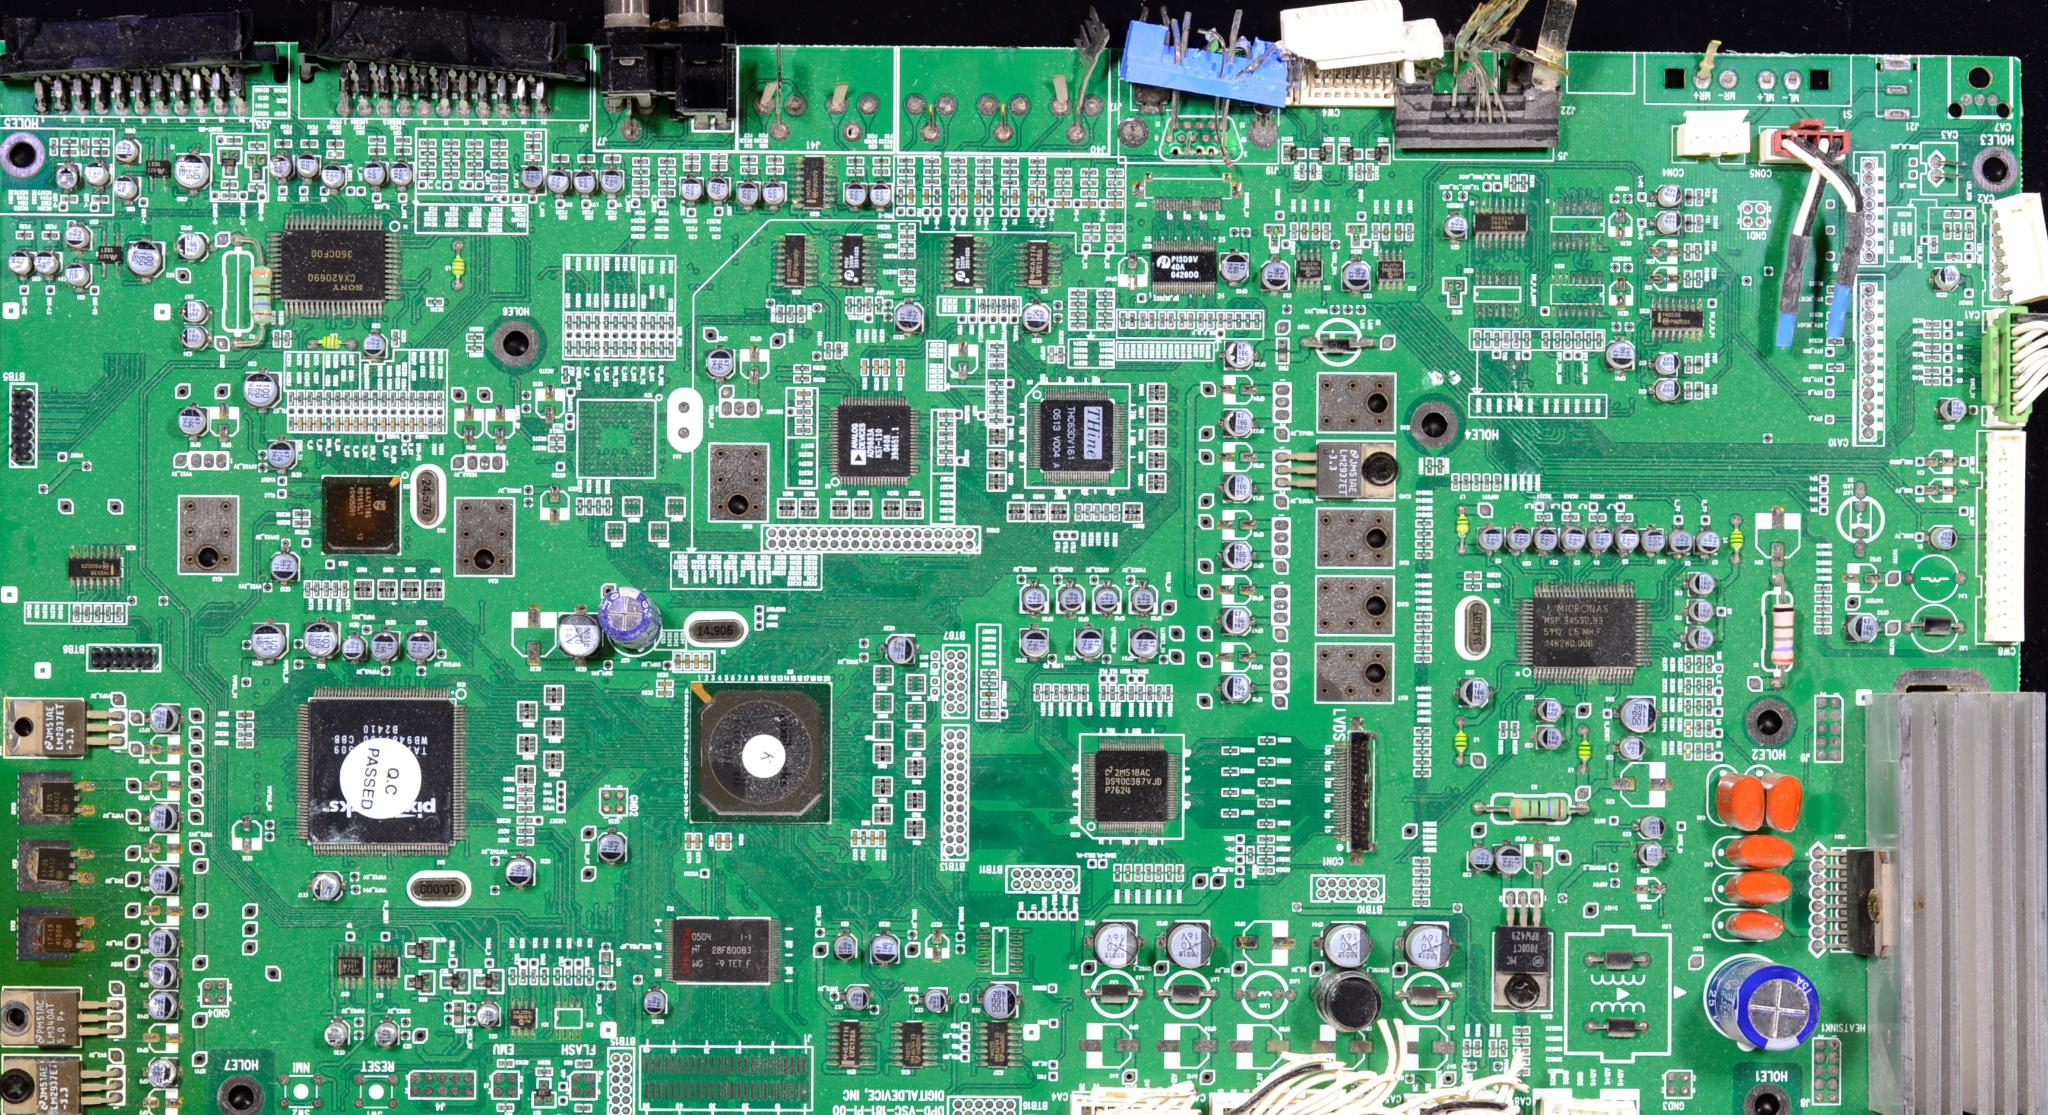Capacitor Jumper: (1076, 923, 1152, 969), (1164, 915, 1230, 967), (549, 611, 619, 658), (155, 401, 229, 442), (1002, 628, 1065, 669), (1401, 924, 1461, 968), (1224, 327, 1268, 379), (259, 428, 312, 472), (296, 868, 354, 906), (137, 693, 194, 732), (891, 298, 938, 343), (141, 1048, 189, 1092), (242, 368, 291, 409), (1529, 715, 1585, 751), (1450, 671, 1503, 709), (306, 615, 345, 666), (581, 831, 636, 865), (244, 617, 290, 658), (1121, 625, 1163, 670), (410, 614, 447, 663), (917, 983, 961, 1023), (1841, 608, 1890, 643), (140, 957, 205, 983), (166, 313, 211, 350), (701, 341, 749, 375), (264, 551, 312, 585), (1124, 579, 1165, 619), (1325, 920, 1366, 960), (1012, 584, 1056, 619), (140, 919, 194, 947), (631, 978, 671, 1016), (137, 864, 189, 893), (1536, 691, 1572, 732), (981, 980, 1023, 1016), (169, 290, 220, 319), (1216, 472, 1261, 504), (1076, 618, 1113, 656), (173, 151, 209, 191), (1606, 338, 1642, 378), (866, 935, 907, 969), (143, 799, 194, 827), (1215, 669, 1256, 702), (1617, 702, 1661, 732), (1334, 260, 1373, 294), (505, 854, 538, 894), (1222, 409, 1263, 441), (172, 229, 210, 262), (372, 628, 405, 663), (1929, 264, 1966, 295), (1261, 257, 1292, 295), (1090, 581, 1123, 615), (1633, 814, 1675, 842), (1224, 537, 1260, 568), (1051, 584, 1090, 612), (1935, 397, 1975, 424), (1437, 210, 1470, 242), (1222, 610, 1259, 637), (1220, 251, 1252, 283), (1495, 843, 1525, 876), (832, 928, 869, 954), (839, 982, 877, 1007), (1934, 520, 1963, 553), (1665, 525, 1694, 555), (1635, 843, 1669, 868), (1654, 376, 1684, 404), (114, 170, 140, 202), (1684, 568, 1716, 595), (704, 174, 729, 207), (596, 168, 625, 195), (1695, 529, 1724, 556), (387, 159, 413, 189), (843, 179, 869, 209), (1654, 210, 1684, 236), (291, 152, 320, 179), (52, 162, 78, 191), (1587, 526, 1616, 552), (318, 163, 349, 188), (1687, 600, 1719, 623), (136, 1001, 177, 1019), (84, 159, 110, 187), (570, 168, 596, 195), (1614, 526, 1640, 553), (1640, 529, 1668, 555), (269, 152, 294, 181), (1653, 352, 1682, 376), (115, 137, 139, 168), (1686, 628, 1719, 648), (1467, 847, 1492, 873), (545, 169, 571, 194), (63, 225, 89, 250), (1535, 525, 1559, 551), (1506, 529, 1532, 553), (1477, 529, 1503, 553), (522, 163, 545, 191), (350, 630, 372, 659), (737, 179, 759, 207), (869, 183, 894, 207), (760, 181, 784, 207), (679, 176, 701, 203), (362, 162, 387, 185), (1658, 184, 1682, 206), (60, 192, 82, 203), (91, 192, 113, 203)
Connector: (1967, 427, 2048, 662), (1981, 184, 2048, 312)
IC: (1068, 731, 1194, 850), (268, 217, 419, 309), (1524, 586, 1647, 673), (1028, 384, 1127, 474), (829, 395, 920, 474), (44, 540, 137, 586), (1149, 238, 1215, 294), (1644, 294, 1706, 339), (792, 152, 833, 213), (1474, 206, 1535, 246), (1374, 250, 1414, 290), (1296, 254, 1326, 286), (146, 158, 172, 179)
Resistor Jumper: (47, 133, 60, 157), (59, 135, 81, 146), (92, 136, 110, 147), (248, 140, 268, 150), (80, 137, 88, 155)
Transistor: (1344, 222, 1370, 254), (216, 146, 240, 179), (1263, 221, 1288, 254), (246, 151, 270, 183)
